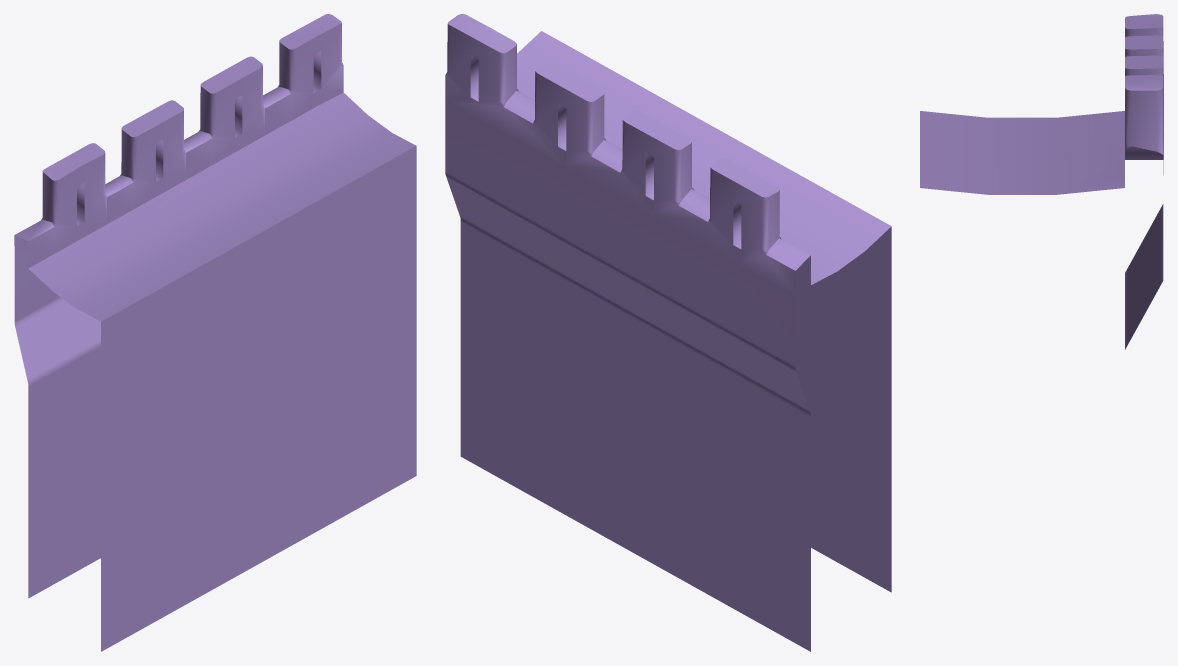
Rendered from wall_outer_10m_down.fbx.
3 views of the same model, side by side, from view 1: azimuth 30°, elevation 25°; view 2: azimuth 150°, elevation 25°; view 3: azimuth 270°, elevation 25° (orthographic). The views are drawn at different scales.
Visible parts, largest first — view 1: Cube.099; view 2: Cube.099; view 3: Cube.099.
Boxes of the visible parts, bbox=[...] form: Cube.099: bbox=[14, 14, 416, 651]; Cube.099: bbox=[445, 14, 891, 651]; Cube.099: bbox=[920, 14, 1163, 349].
Bounding box in the file's own units: 10 × 15.1 × 4.76.
